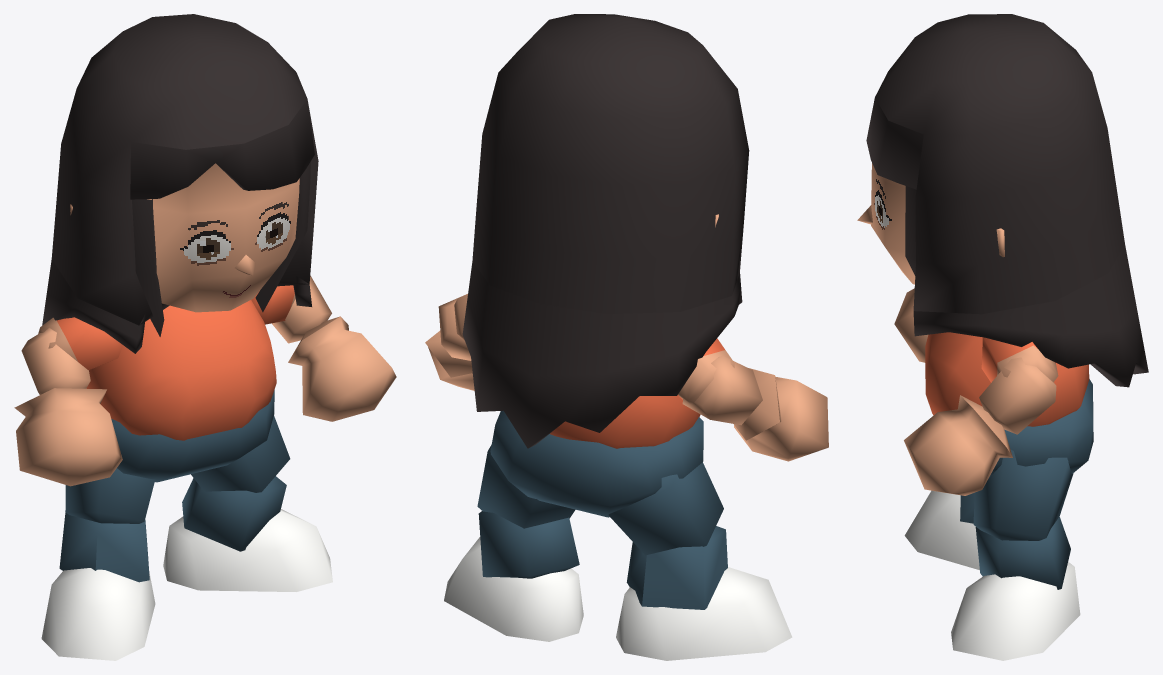
3 views of the same model, side by side, from view 1: azimuth 30°, elevation 25°; view 2: azimuth 150°, elevation 25°; view 3: azimuth 270°, elevation 25° (orthographic). The views are drawn at different scales.
Visible parts, largest first — view 1: Character; view 2: Character; view 3: Character.
Boxes of the visible parts, left/top/right/bottom form: Character: left=14, top=14, right=396, bottom=660; Character: left=425, top=14, right=828, bottom=660; Character: left=857, top=14, right=1148, bottom=660.
Bounding box in the file's own units: 1.98 × 2.84 × 1.34.
Materials: 9 (2 with a texture image).
